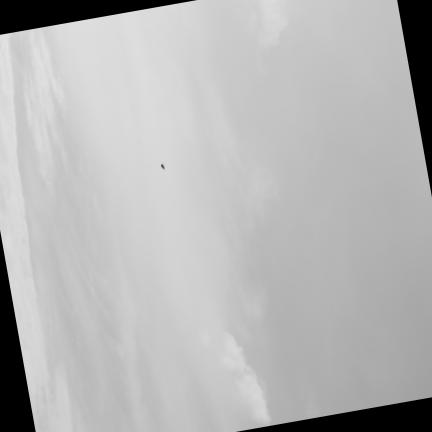Shahed: (159, 164, 164, 170)
